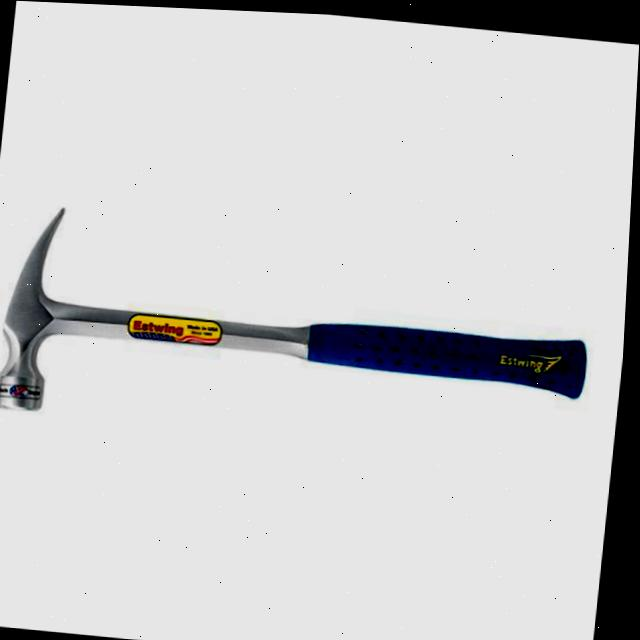hammer: (0, 194, 609, 465)
